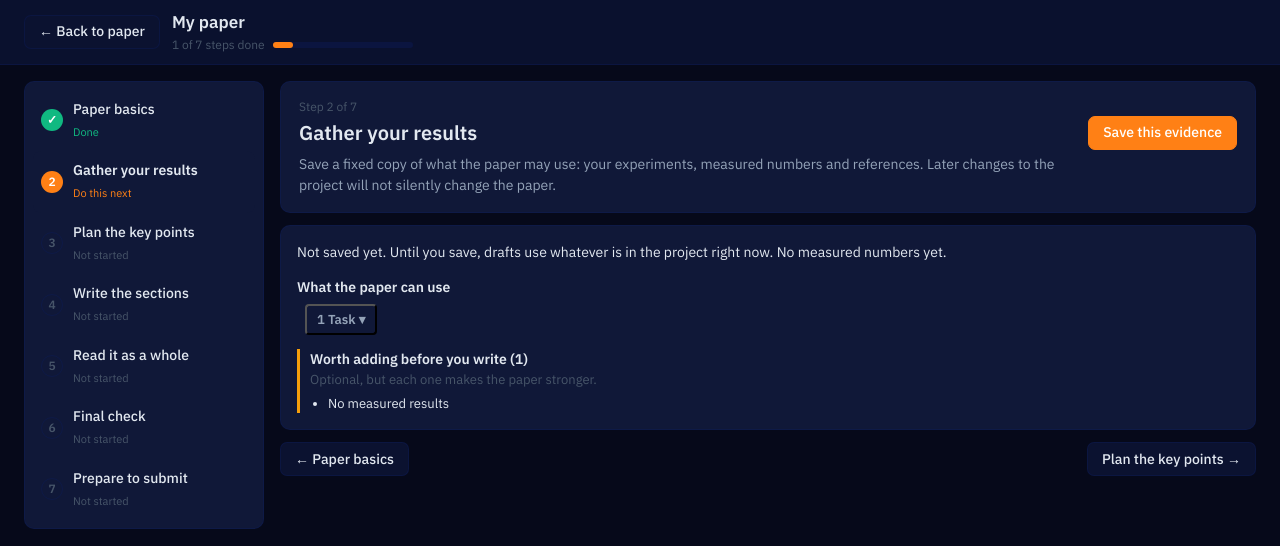
Test case: PaperStudioPage › opens on the next step, shows what is missing, and lets you look at other steps without running them
Expected: the heading "Gather your results" is shown, 299,118 -> 477,146
Expected: the list item "No measured results" is shown, 328,394 -> 449,412
Click the button "3 Plan the key points Not started".
click(144, 243)  # box 33,212 -> 255,274
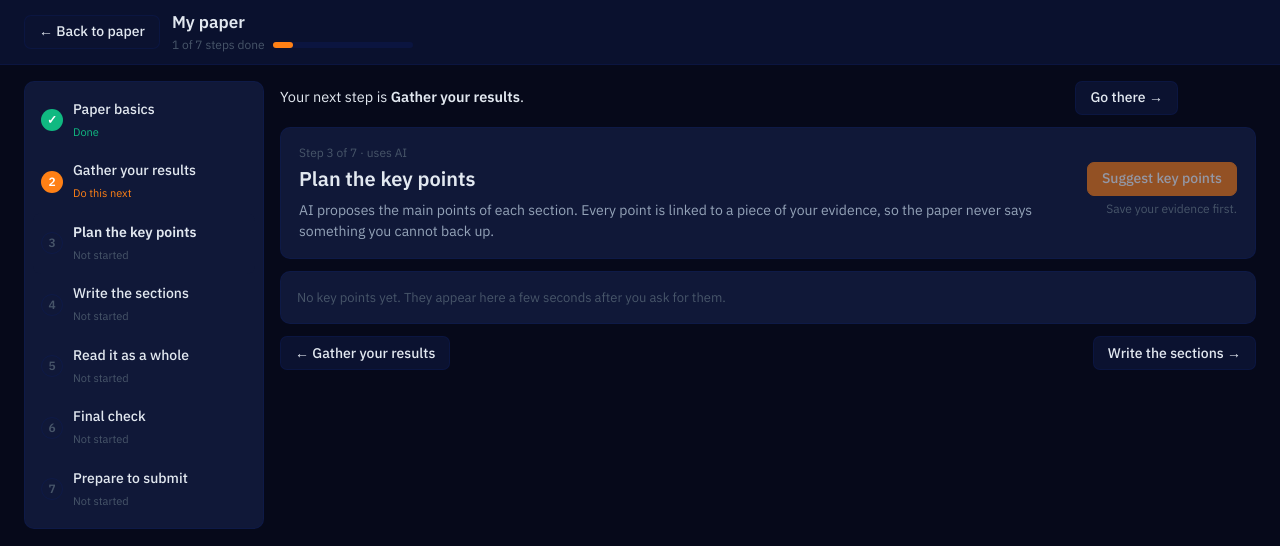
Expected: the heading "Plan the key points" is shown, 299,164 -> 476,192
Expected: the button "Suggest key points" is disabled, 1087,162 -> 1237,196
Expected: the text "Save your evidence first." is shown, 1106,200 -> 1237,218
